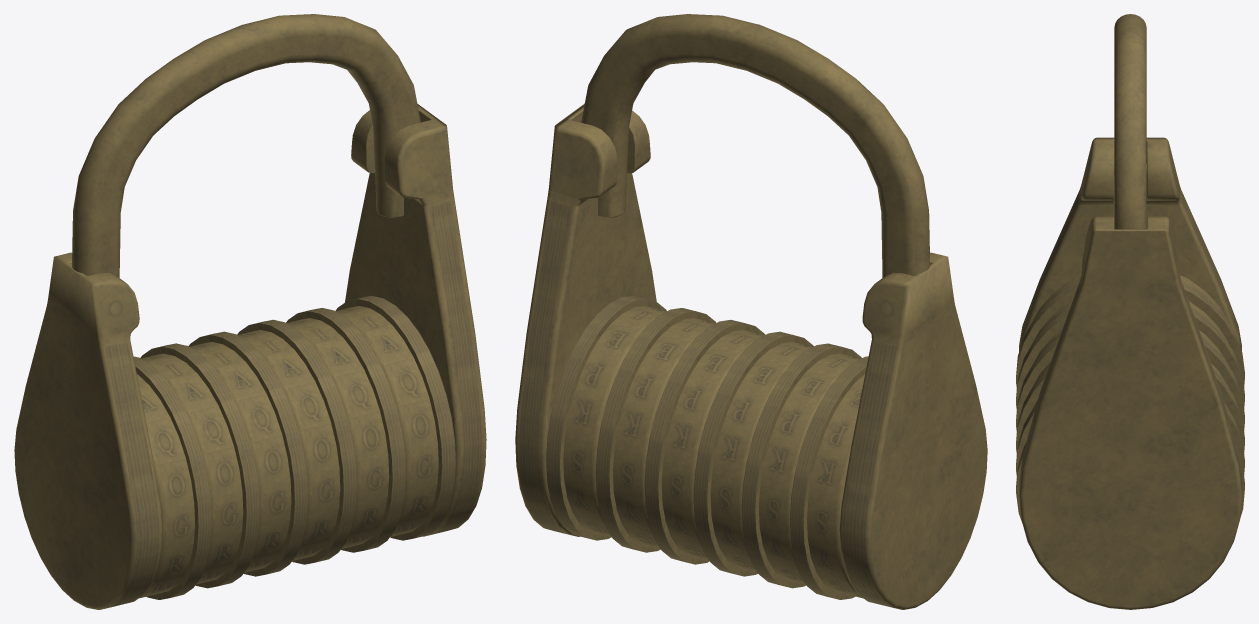
Rendered from old_rotary_combination_lock.fbx.
The picture shows the model from 3 angles, left to right: view 1: azimuth 30°, elevation 25°; view 2: azimuth 150°, elevation 25°; view 3: azimuth 270°, elevation 25°; orthographic projection. The views are drawn at different scales.
Parts seen in each view (by area): view 1: key_b, key_a, grip, key_a.007, key_a.005, key_a.006, key_a.004, key_a.003, key_a.002; view 2: key_b, key_a, grip, key_a.007, key_a.005, key_a.006, key_a.003, key_a.004, key_a.002; view 3: key_a, key_b, grip, key_a.002, key_a.003, key_a.004, key_a.005, key_a.006, key_a.007.
Part boxes in pixels (box(x1,y1,x2,y2)): key_b: box(14, 252, 162, 609); key_a: box(345, 104, 486, 536); grip: box(72, 14, 420, 277); key_a.007: box(335, 295, 455, 540); key_a.005: box(237, 319, 357, 564); key_a.006: box(286, 308, 406, 552); key_a.004: box(188, 331, 308, 576); key_a.003: box(140, 343, 260, 588); key_a.002: box(133, 356, 212, 599); key_b: box(839, 252, 987, 609); key_a: box(515, 104, 656, 536); grip: box(581, 14, 930, 277); key_a.007: box(546, 295, 666, 540); key_a.005: box(644, 320, 765, 564); key_a.006: box(595, 308, 716, 552); key_a.003: box(741, 343, 861, 588); key_a.004: box(693, 331, 813, 576); key_a.002: box(789, 356, 868, 599); key_a: box(1019, 216, 1242, 609); key_b: box(1019, 137, 1241, 351); grip: box(1114, 14, 1146, 229); key_a.002: box(1016, 275, 1244, 388); key_a.003: box(1016, 301, 1244, 410); key_a.004: box(1016, 330, 1244, 432); key_a.005: box(1016, 361, 1244, 454); key_a.006: box(1016, 400, 1244, 476); key_a.007: box(1016, 443, 1244, 523).
Bounding box in the file's own units: 15.18 × 22.03 × 9.14.
